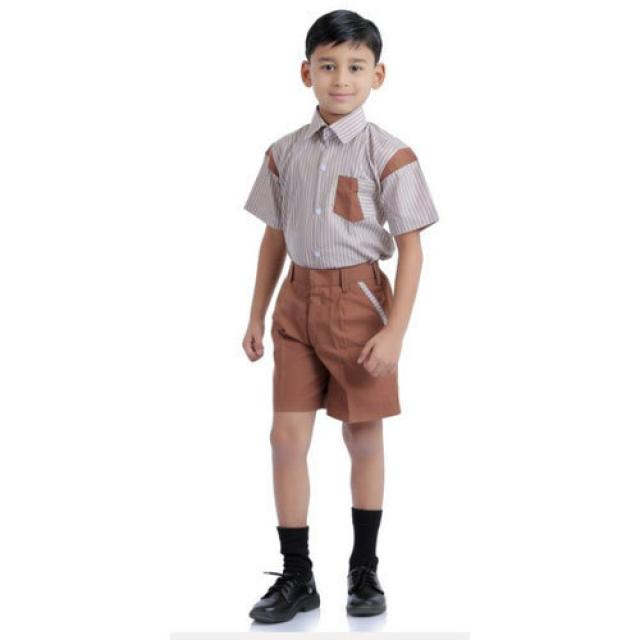child: (240, 5, 442, 631)
